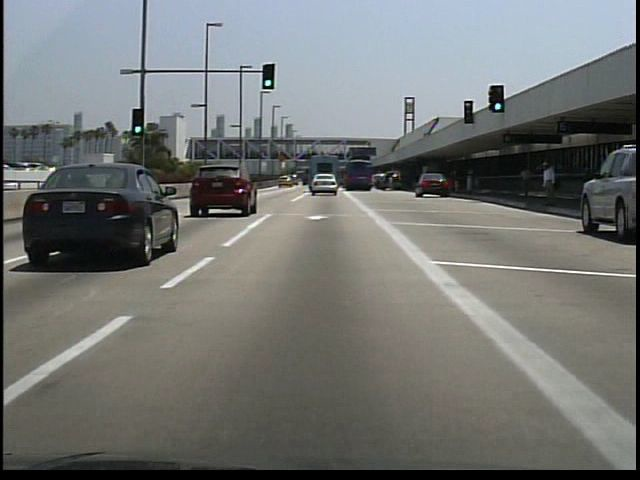person: (540, 157, 560, 210), (514, 156, 535, 203)
